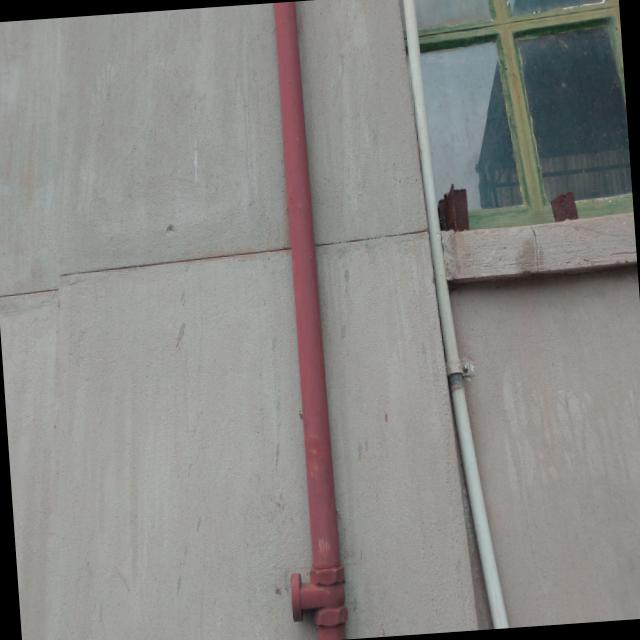gas: (273, 1, 350, 640)
